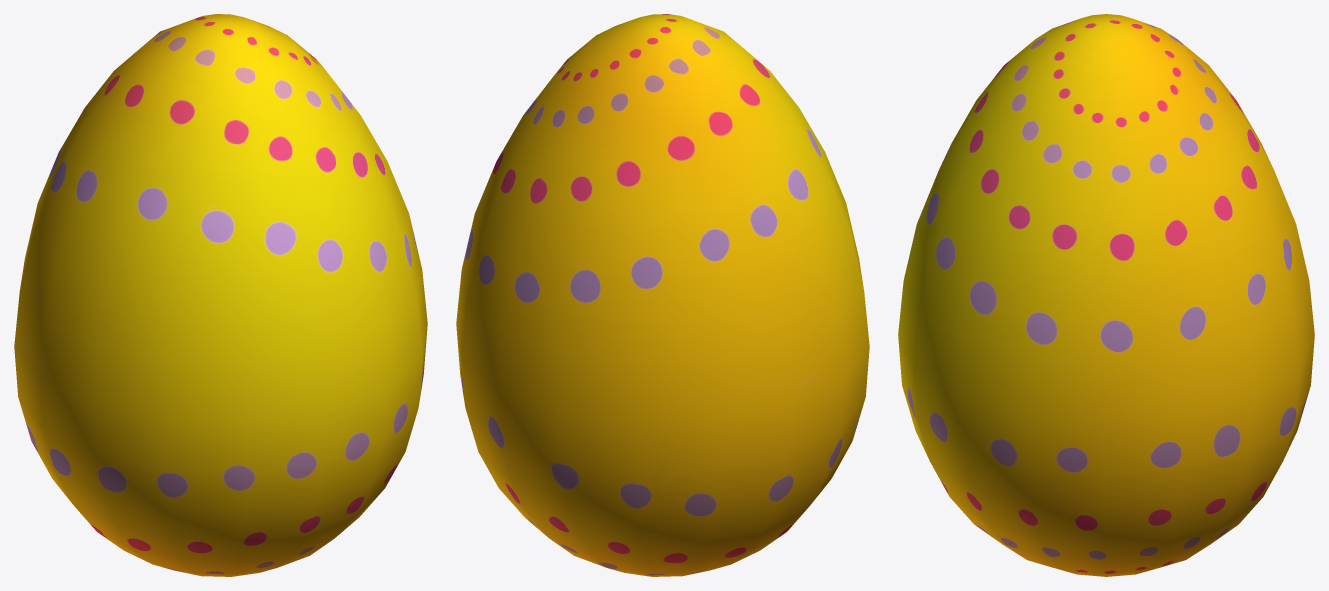
Rendered from Egg_Anim.fbx.
The picture shows the model from 3 angles, left to right: view 1: azimuth 30°, elevation 25°; view 2: azimuth 150°, elevation 25°; view 3: azimuth 270°, elevation 25°; orthographic projection.
Visible parts, largest first — view 1: Egg_001; view 2: Egg_001; view 3: Egg_001.
Part boxes in pixels (x1,y1,x2,y2): Egg_001: (14,14,427,576); Egg_001: (456,14,869,576); Egg_001: (898,14,1314,576).
Bounding box in the file's own units: 46.03 × 65.28 × 46.03.
Materials: 1 (1 with a texture image).
